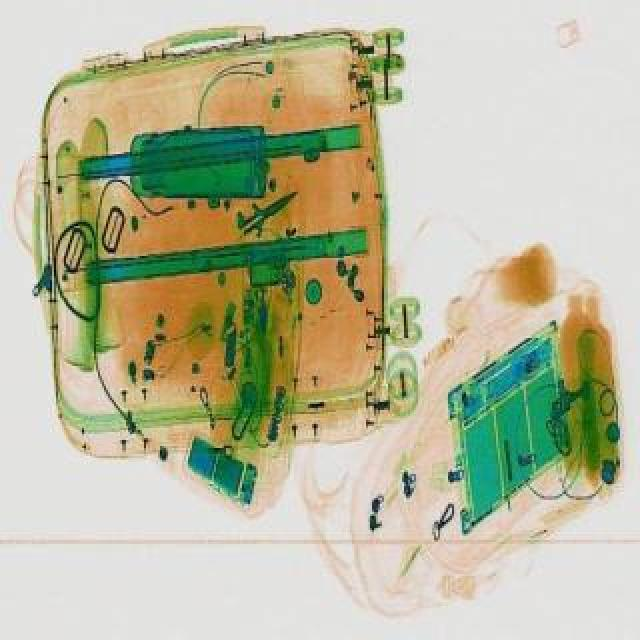knife: (230, 184, 308, 248)
